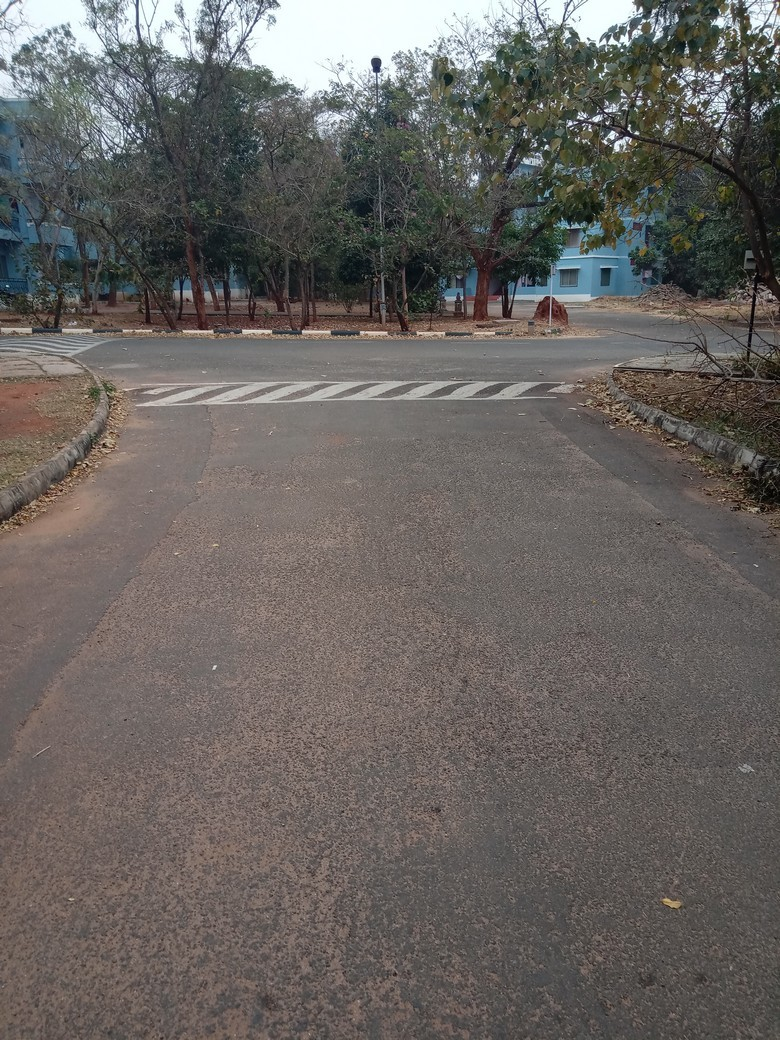bump: (114, 383, 591, 405)
